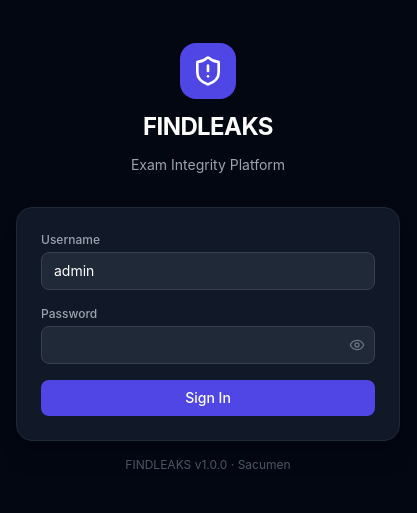
Test case: Login page › shows error on invalid credentials
This screenshot has width=417, height=513.
Type "wrong" into the password field with test id "password-input" at [208, 345], box left=41, top=326, right=375, bottom=364
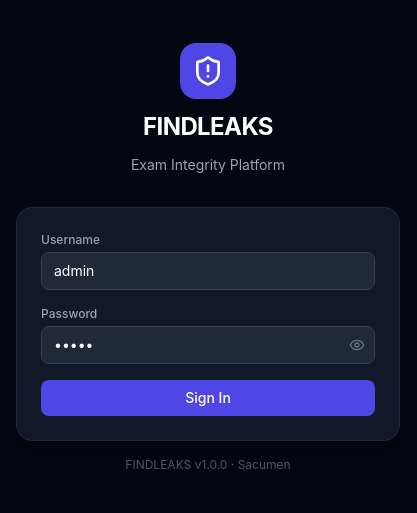
Click the button with test id "login-button" at [208, 398], box left=41, top=380, right=375, bottom=416
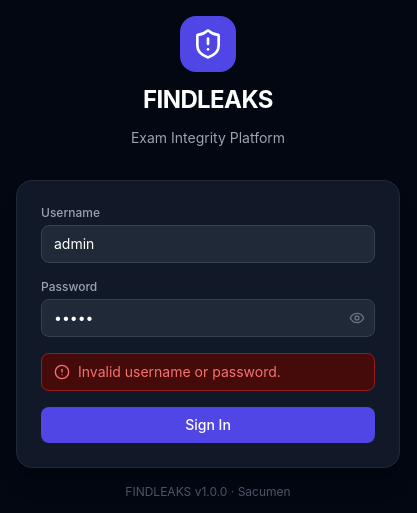
Now the element with test id "error-message" is shown, box left=41, top=353, right=375, bottom=391
